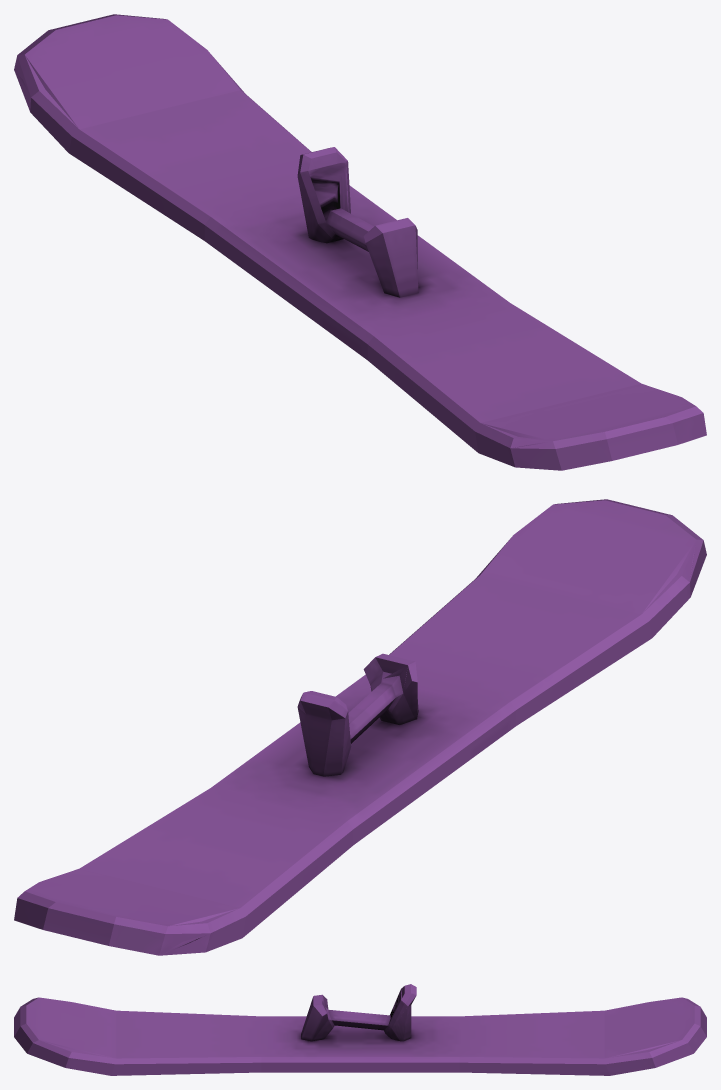
Rendered from item_snowboard_galaxy.glb.
3 renders of one model, top to bottom at view 1: azimuth 30°, elevation 25°; view 2: azimuth 150°, elevation 25°; view 3: azimuth 270°, elevation 25°, orthographic. The views are drawn at different scales.
Visible parts, largest first — view 1: Snowboard; view 2: Snowboard; view 3: Snowboard.
Part boxes in pixels (<box>): Snowboard: <box>14,14,706,470</box>; Snowboard: <box>14,499,706,955</box>; Snowboard: <box>14,984,706,1075</box>.
Bounding box in the file's own units: 0.3666 × 0.198 × 2.01.
1 material, 1 textured.
